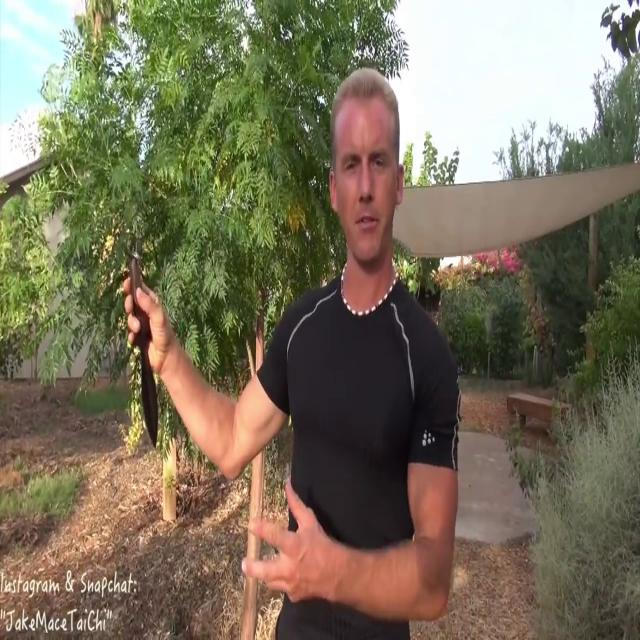knife: (118, 236, 166, 461)
